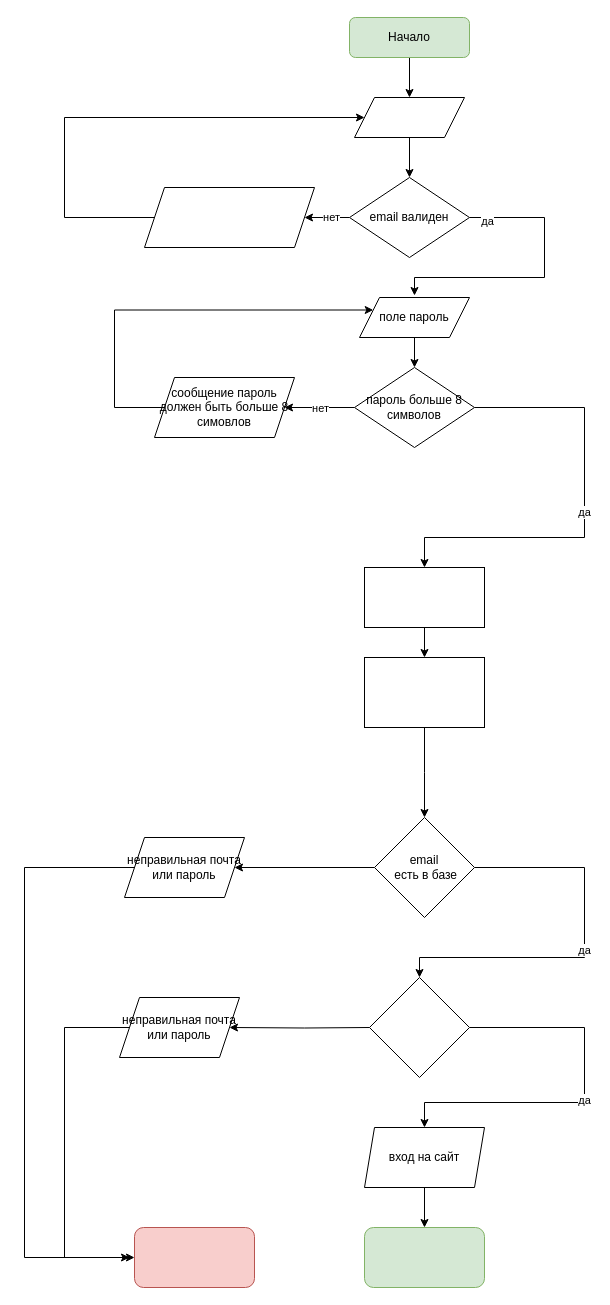
Some shapes in this 610 by 1305 pixel diagram are drawn without their labels. Here are the shapes that lost their labels. From the top down, the centre of each, then its label:
At pixel 409 117: "поле email".
At pixel 229 217: "Сообщение это не email".
At pixel 424 597: "кнопка авторизоваться активна".
At pixel 424 692: "нажать авторизоваться".
At pixel 419 1027: "пароль верный".
